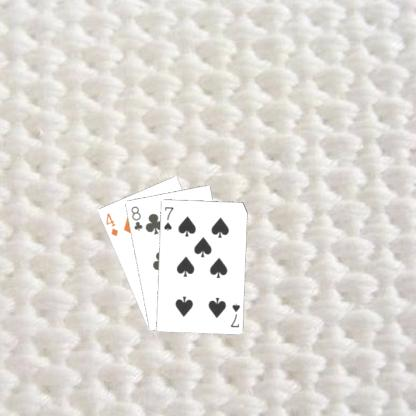4D: (103, 210, 119, 238)
7S: (227, 300, 241, 328), (161, 204, 174, 232)
8C: (128, 203, 144, 232)
